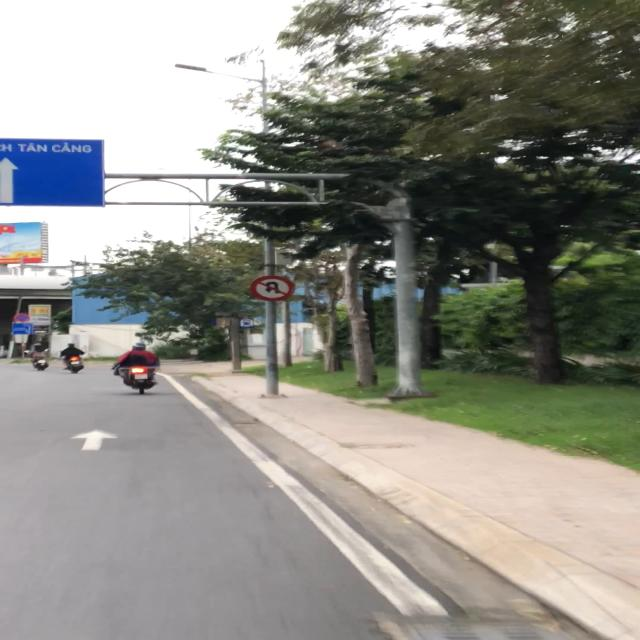Bien bao cam quay dau xe: (250, 275, 300, 303)
